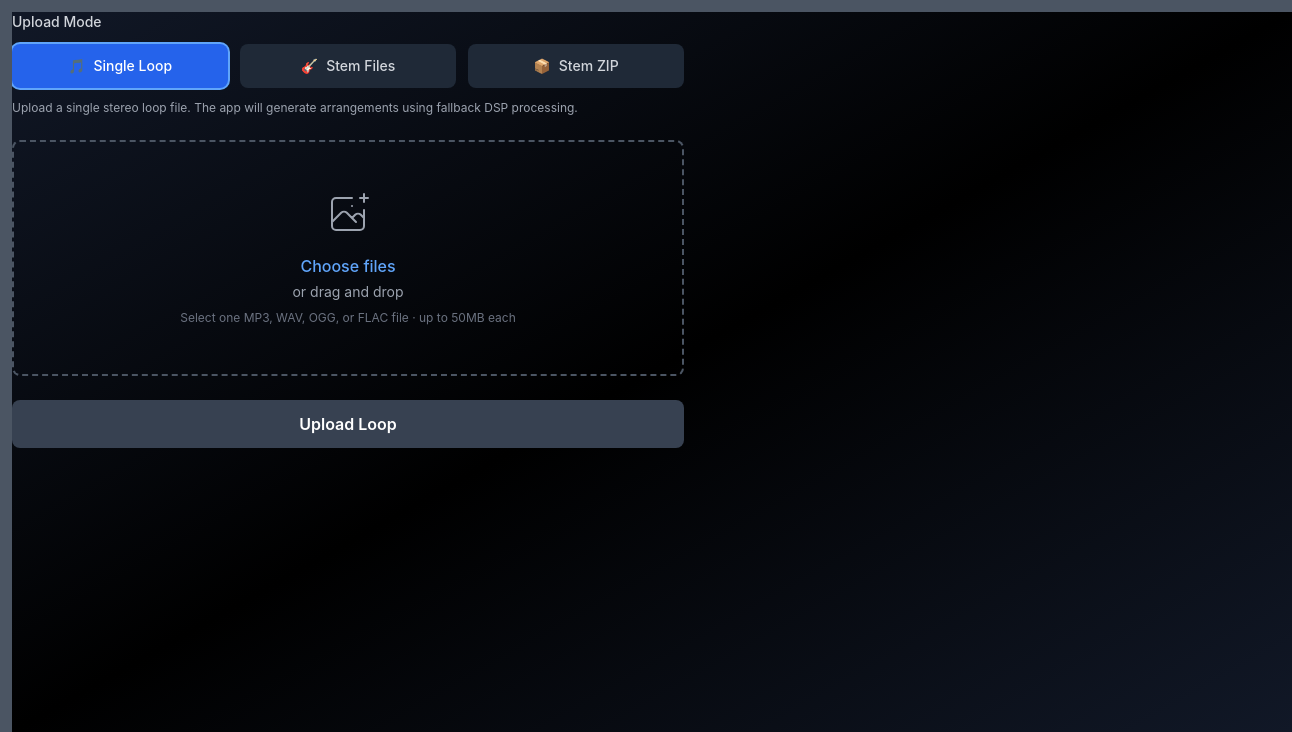
Test: UploadForm Component › Mode Selector UI › should switch to stem-files mode when clicked
This screenshot has width=1292, height=732.
Click the button "🎸 Stem Files" at [348, 66], box [240,44,456,88]
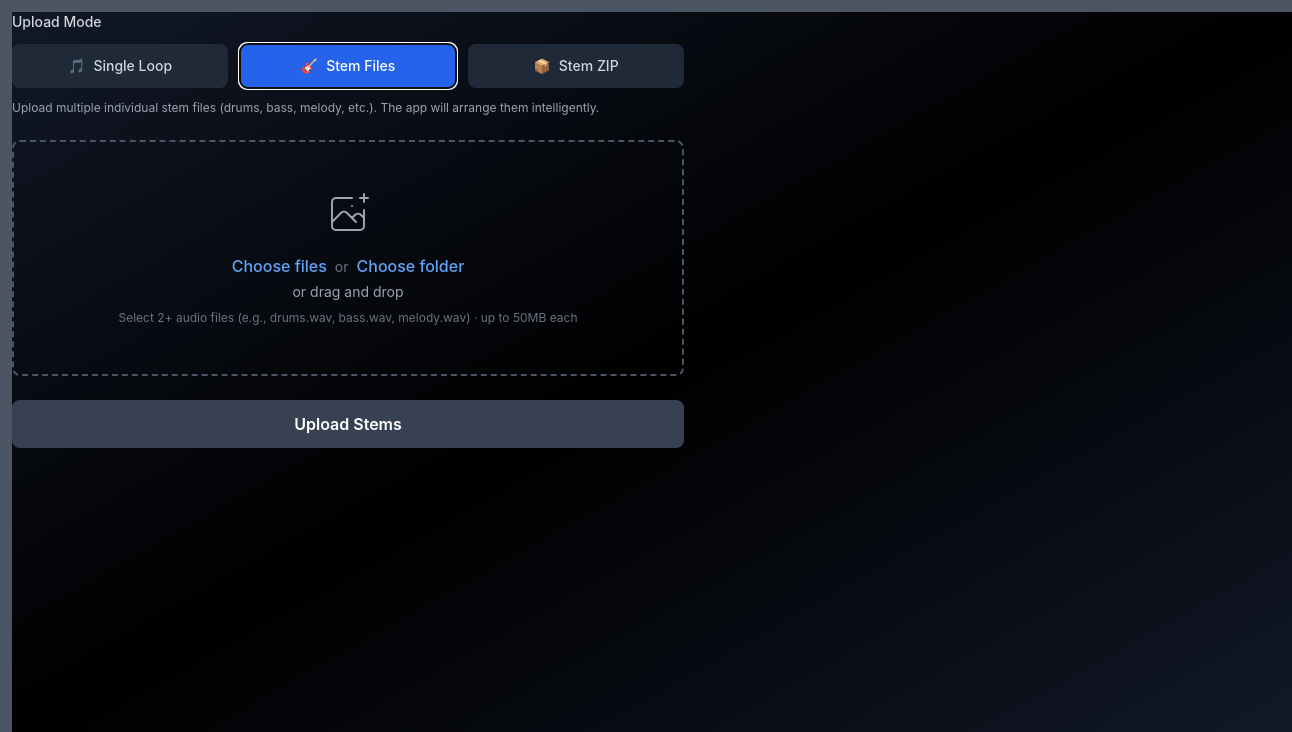
Check: the text "Upload multiple individual stem files" is shown, box [12,100,599,115]
